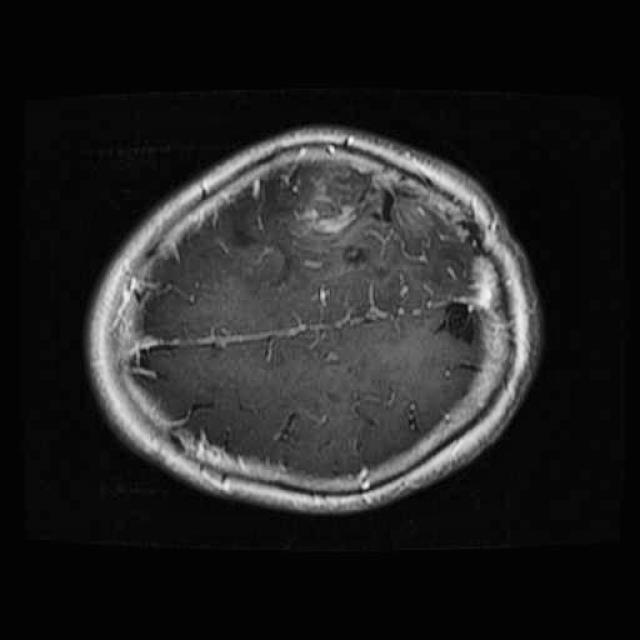Tumor: (268, 156, 412, 268)
